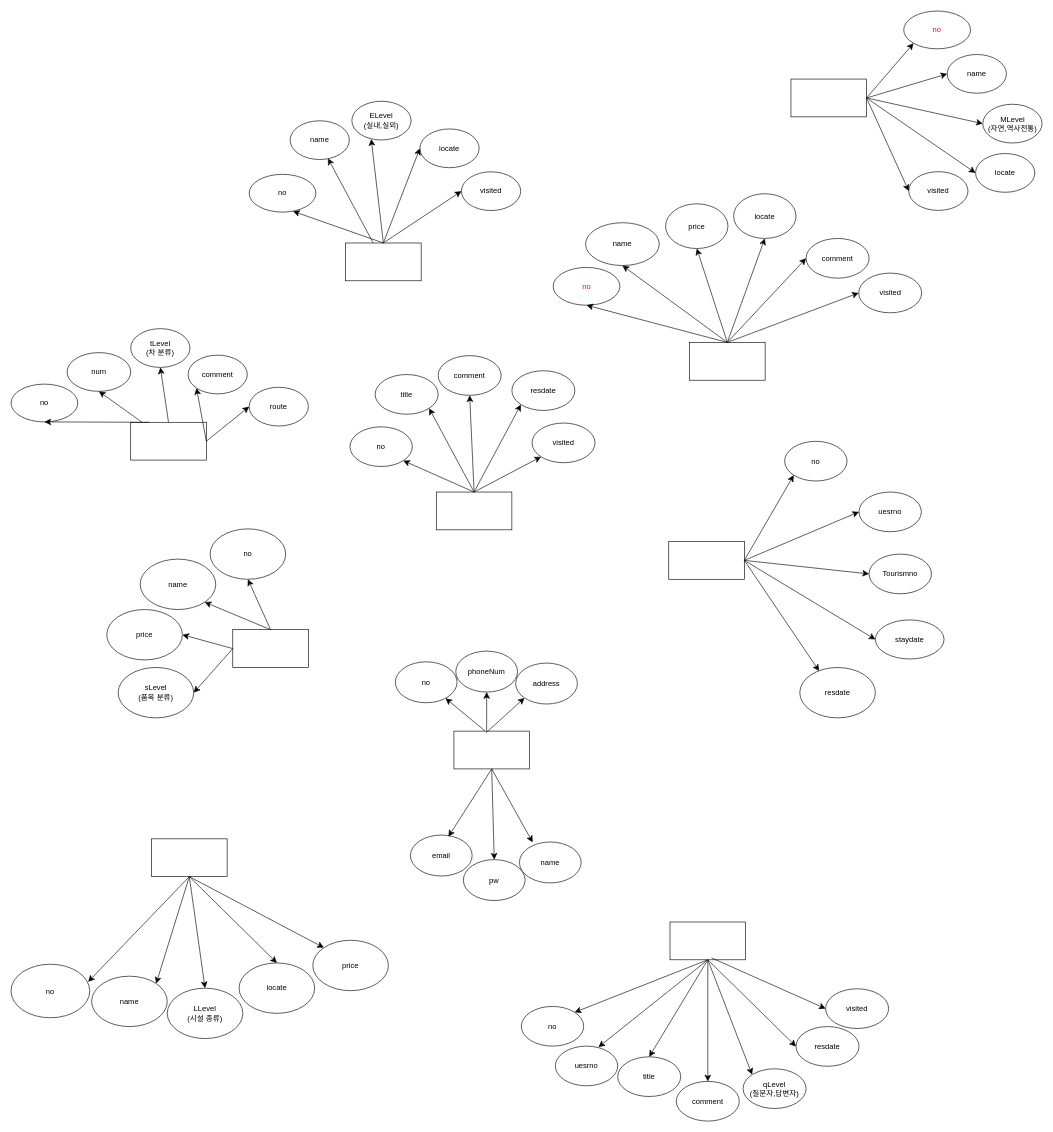
This 1053x1132 diagram has some shape labels left out. The centre of each missing label's shape, as x and y in pixels:
"Enjoying (체험할 거리)" goes at [383,261].
"Lodgment (숙박)" goes at [189,857].
"MainAttraction ( 주요 명소)" goes at [828,97].
"Notice (only manager)" goes at [474,510].
"Qna" goes at [707,940].
"Shopping" goes at [270,648].
"T_Bought" goes at [706,560].
"Tourism" goes at [727,361].
"Traffic" goes at [168,441].
"User+(manager)" goes at [491,749].
